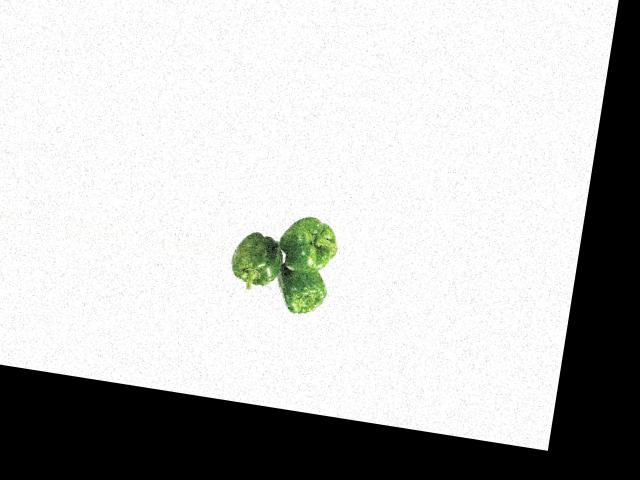bell_pepper: (275, 207, 347, 279)
